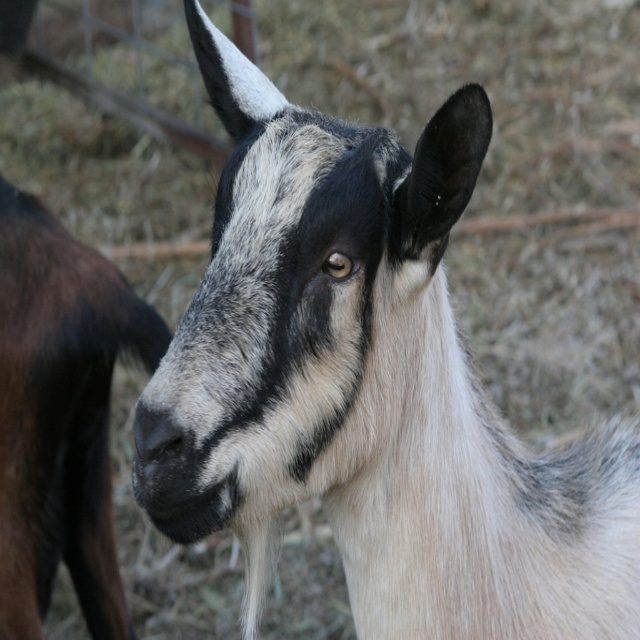Goat: (134, 1, 640, 639), (0, 182, 177, 639)
